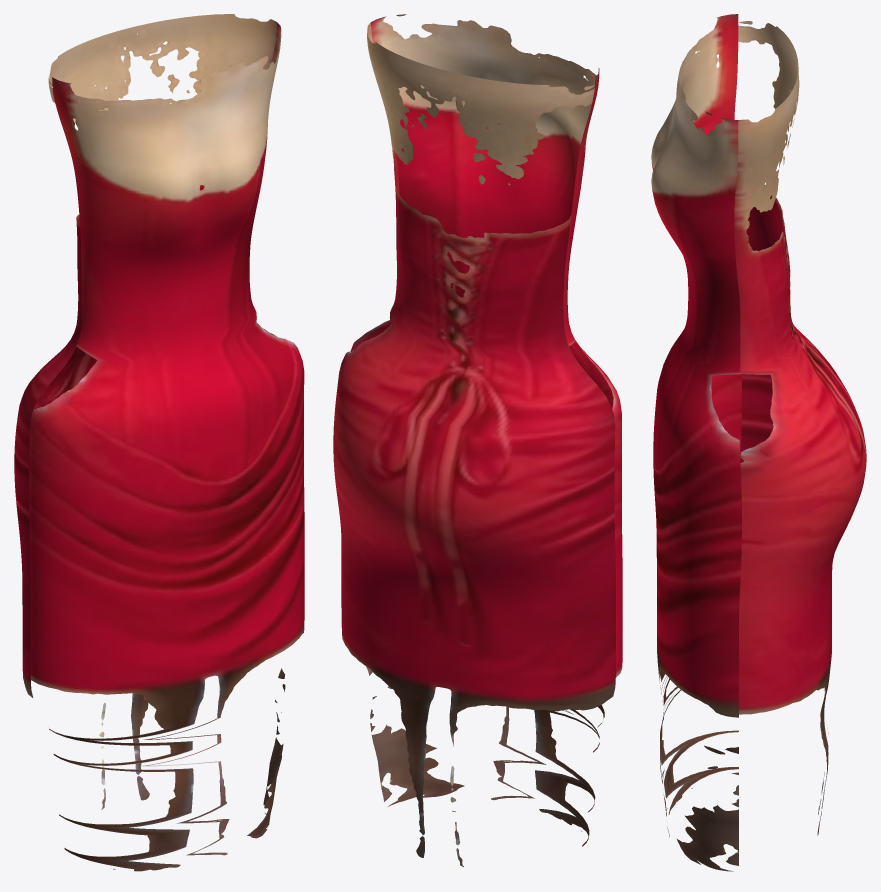
Rendered from prod-ae-crimson-corset-mini.glb.
3 renders of one model, left to right at view 1: azimuth 30°, elevation 25°; view 2: azimuth 150°, elevation 25°; view 3: azimuth 270°, elevation 25°, orthographic. The views are drawn at different scales.
Visible parts, largest first — view 1: prod-ae-crimson-corset-mini; view 2: prod-ae-crimson-corset-mini; view 3: prod-ae-crimson-corset-mini.
Boxes of the visible parts, <box> form: prod-ae-crimson-corset-mini: <box>14,14,304,871</box>; prod-ae-crimson-corset-mini: <box>333,14,622,866</box>; prod-ae-crimson-corset-mini: <box>651,14,866,871</box>.
Size of the model in its own units: 0.2922 by 0.8273 by 0.2112.
1 material, 1 textured.
